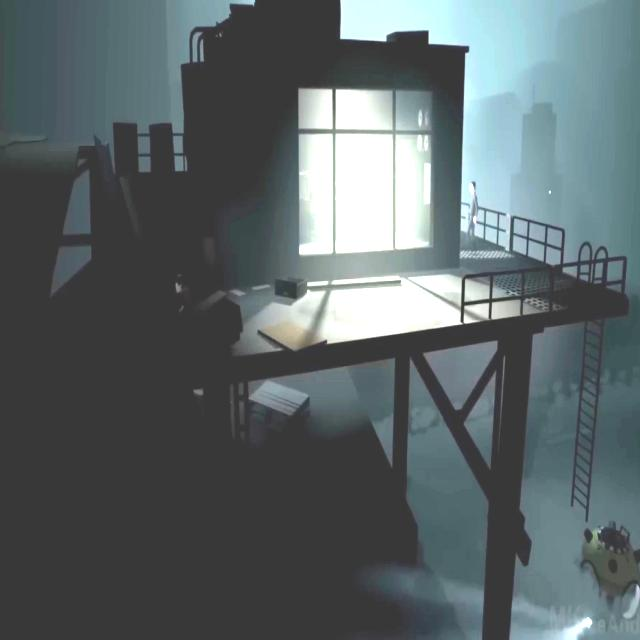human: (467, 181, 478, 246)
